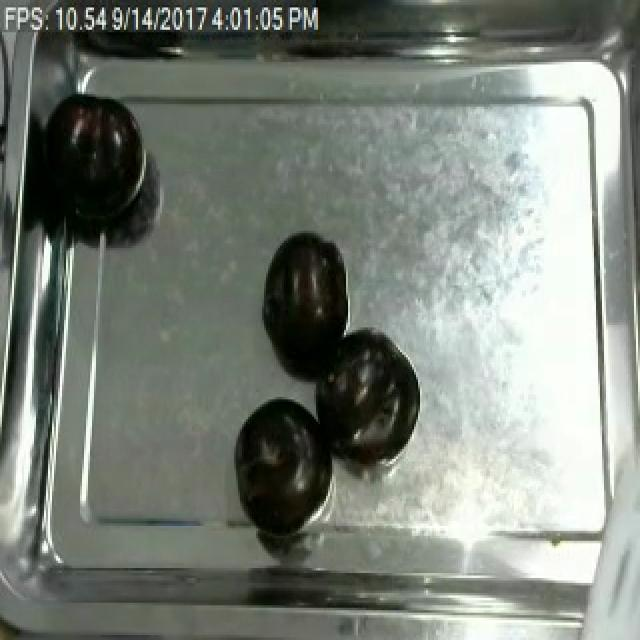Fruit: (46, 84, 154, 226), (230, 389, 334, 536), (256, 228, 344, 372), (328, 332, 418, 469)
